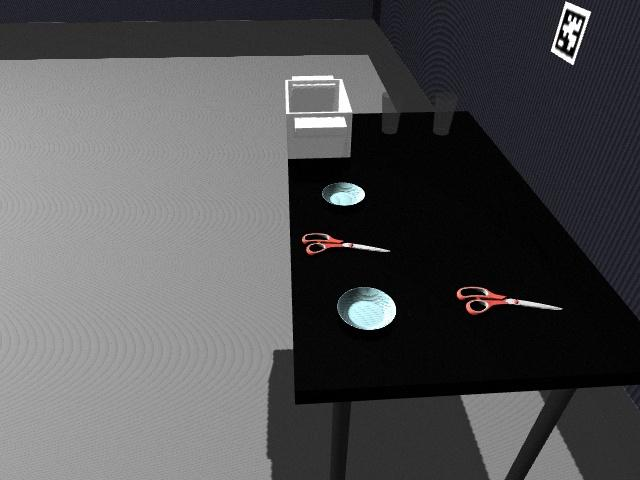cup: (432, 90, 458, 135), (381, 90, 401, 135)
plate: (336, 286, 398, 331), (321, 181, 366, 207)
scissors: (456, 283, 563, 315), (303, 232, 389, 256)
